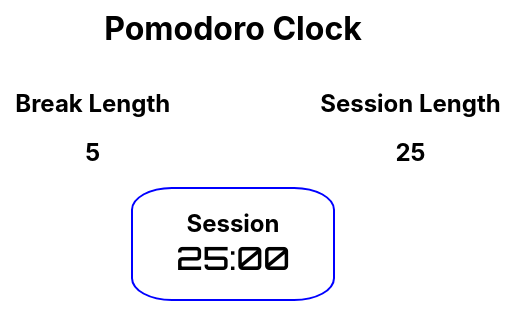
it: Break and session time input › "session-decrement" button decrements "session-length" and "session-increment" button increments "session-length"
Expected: the heading with test id "session-length" reads "25", [395,138,425,167]
Click the button with test id "session-decrement".
click(389, 152)  # box [383,118,395,187]
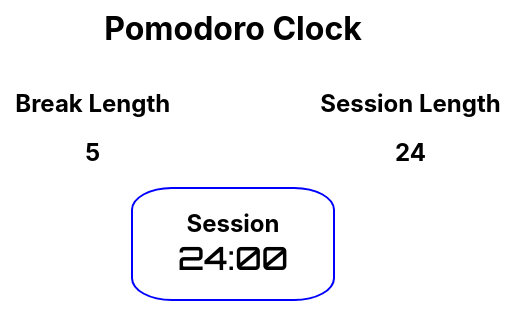
Result: the heading with test id "session-length" reads "24" at [395,138,426,167]
Click the button with test id "session-increment".
click(432, 152)  # box [426,118,438,187]
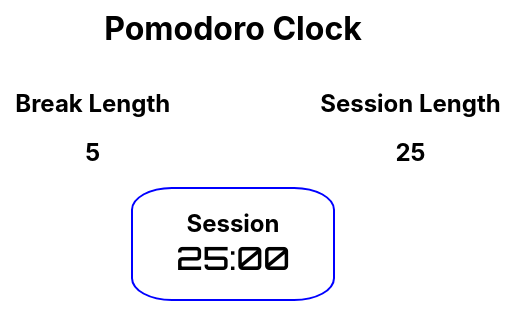
Result: the heading with test id "session-length" reads "25" at [395,138,425,167]
